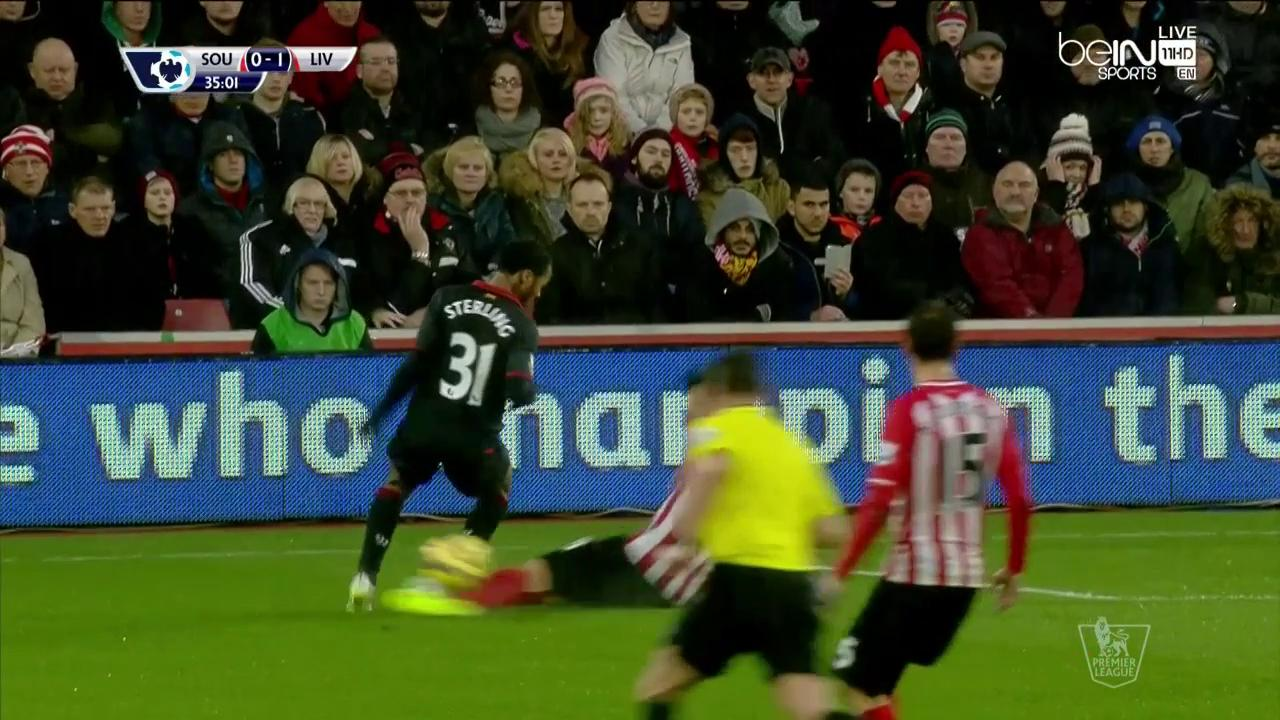football: (422, 534, 487, 586)
